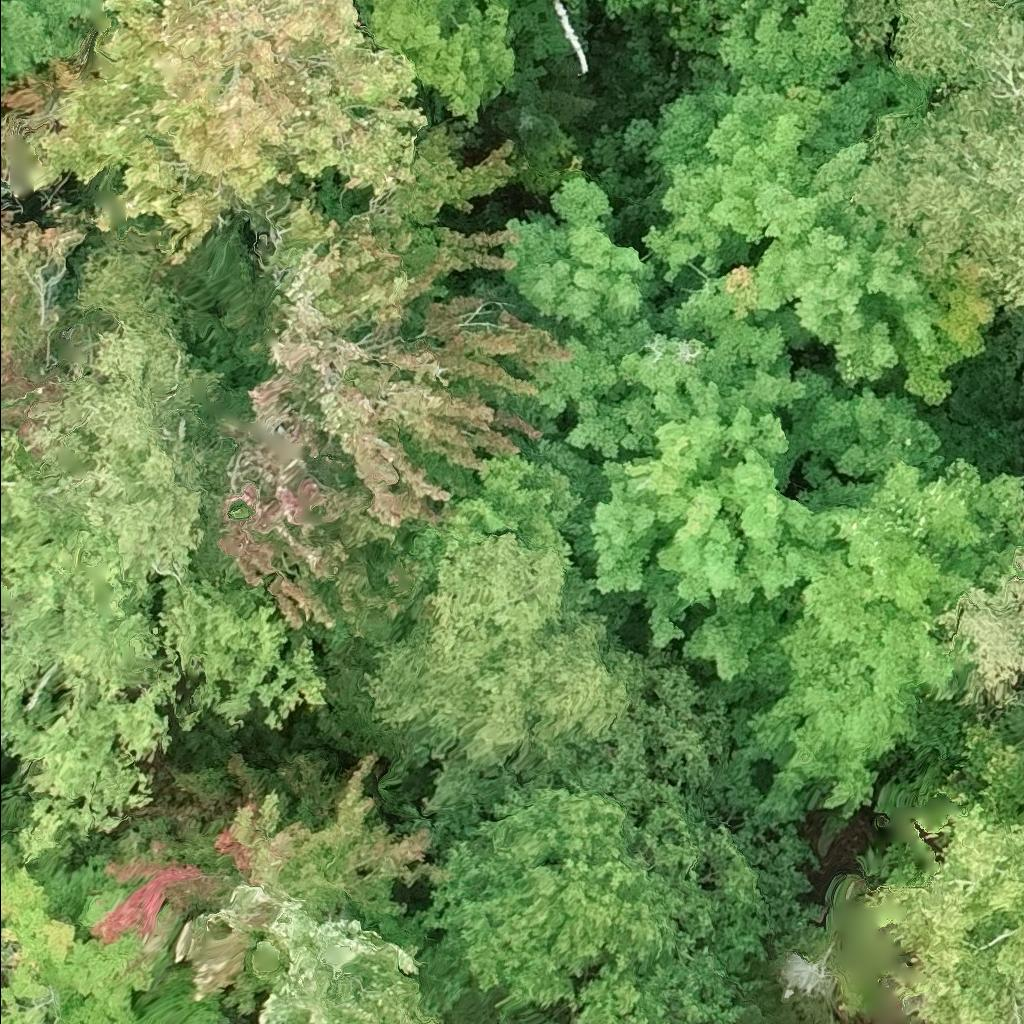crown: (504, 173, 947, 648), (212, 122, 568, 642), (591, 0, 996, 408), (685, 454, 1023, 813), (25, 0, 426, 260), (849, 0, 1023, 311), (354, 0, 521, 123), (938, 540, 1023, 697), (1022, 511, 1023, 521)
